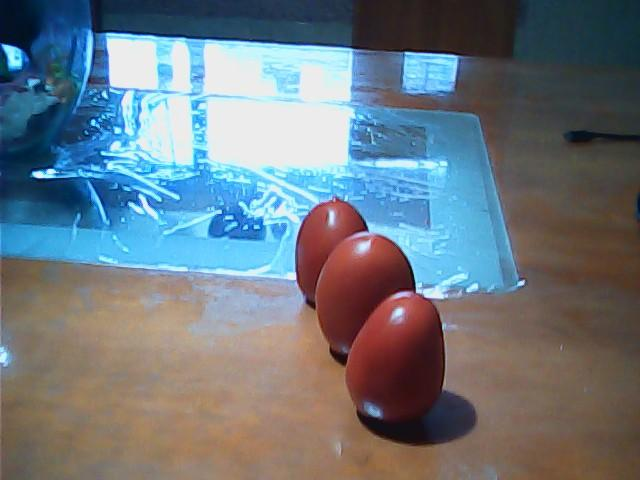maduro: (313, 231, 417, 356), (348, 291, 445, 425), (292, 197, 371, 307)
